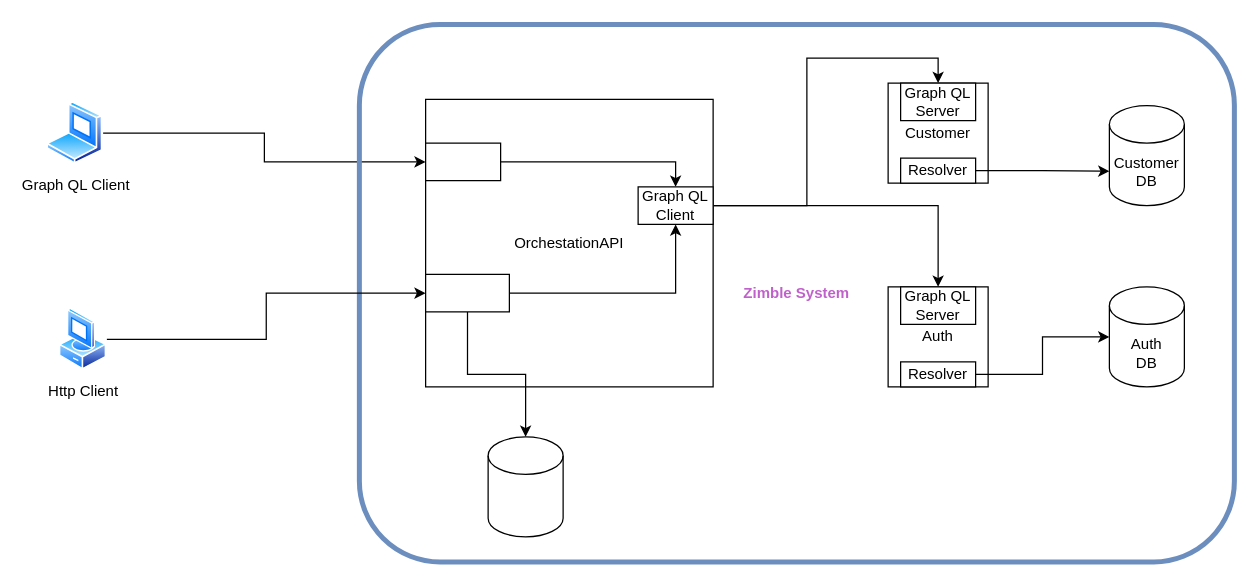
The diagram is 1259 pixels wide and 585 high, and some of its shapes have lost their labels. Each missing label, with the centre of its shape:
Configuration DB: the point at 525,486
Graph QL Server EP: the point at 462,161
HTTP Server EP: the point at 466,292
